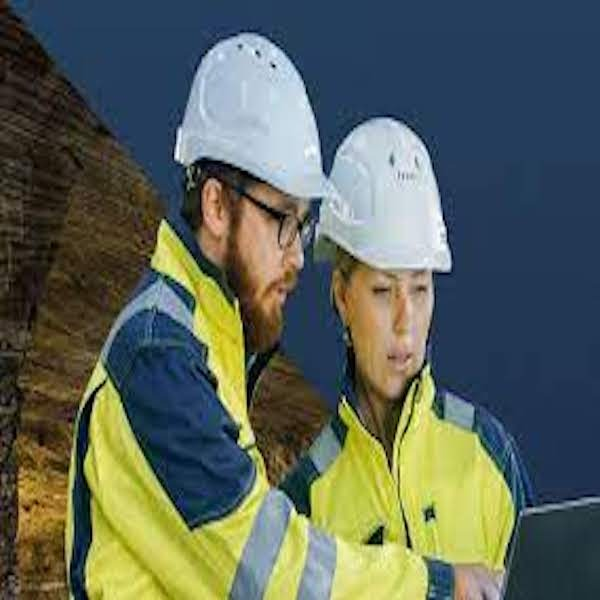helmet: (329, 130, 463, 278), (188, 35, 321, 183)
vest: (69, 272, 273, 600), (295, 394, 511, 600)
